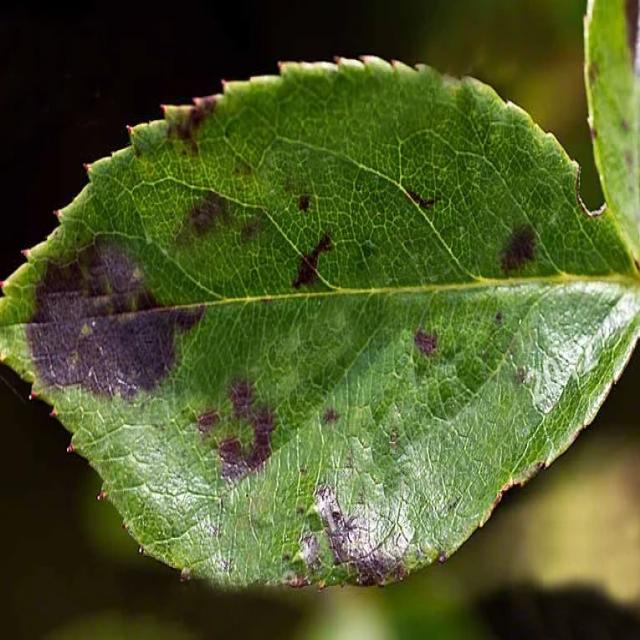leaf_spot: (0, 0, 639, 586)
